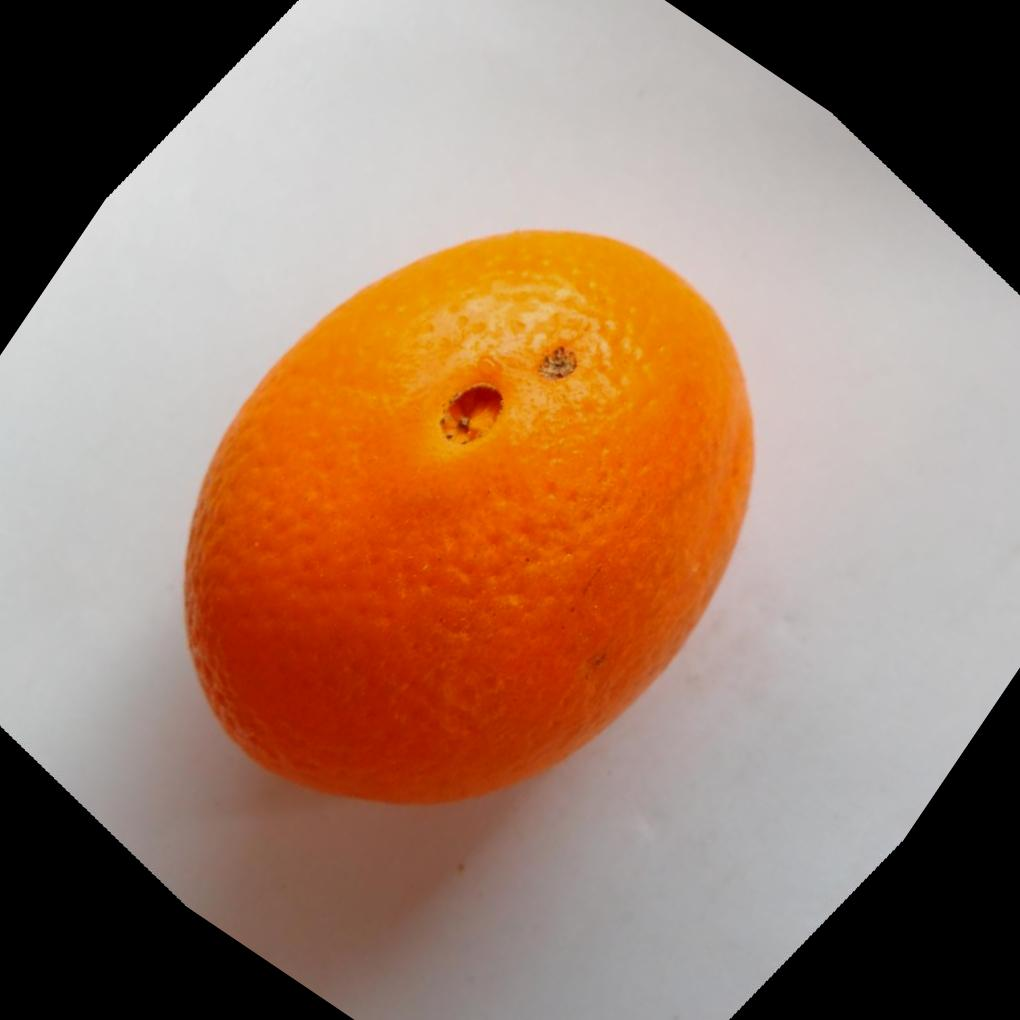FreshGuava: (183, 227, 759, 809)
